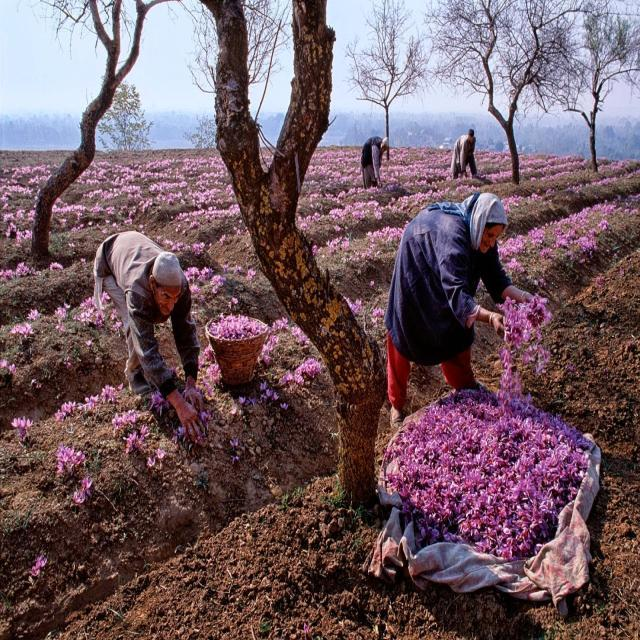Flower: (386, 380, 590, 546), (5, 156, 314, 242), (496, 300, 543, 373), (116, 405, 163, 458), (56, 444, 101, 498), (60, 296, 110, 336), (293, 344, 327, 394), (213, 307, 267, 338), (526, 240, 589, 266), (331, 228, 401, 248), (55, 395, 105, 418), (12, 310, 42, 340), (28, 552, 53, 584), (9, 412, 33, 434)
